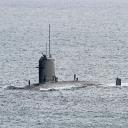submarine: (3, 30, 123, 92)
